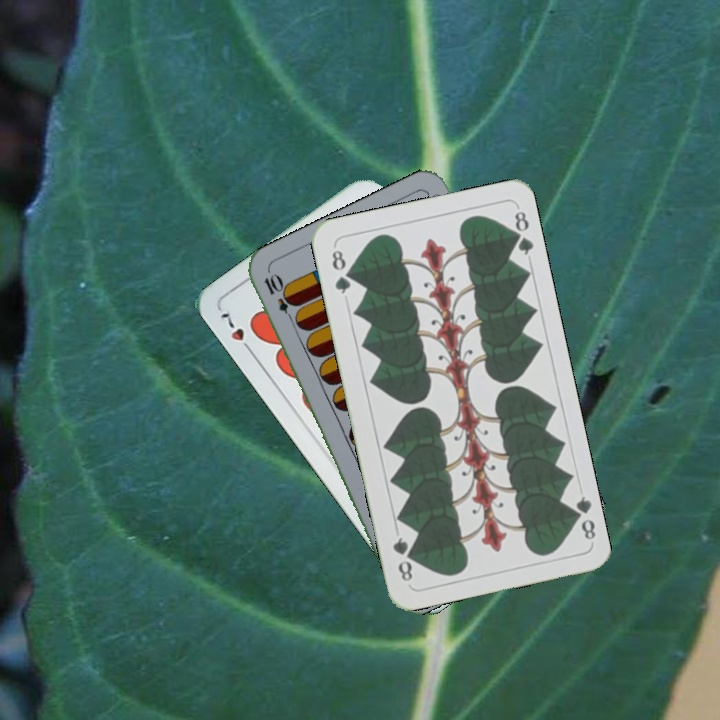E10: (260, 270, 299, 326)
G8: (566, 492, 599, 542), (327, 245, 354, 297)
H7: (216, 308, 256, 357)
